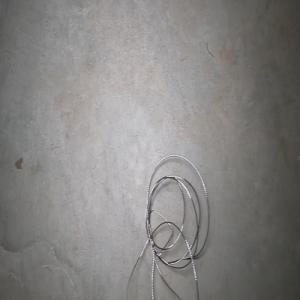Wire: (125, 154, 209, 300)
